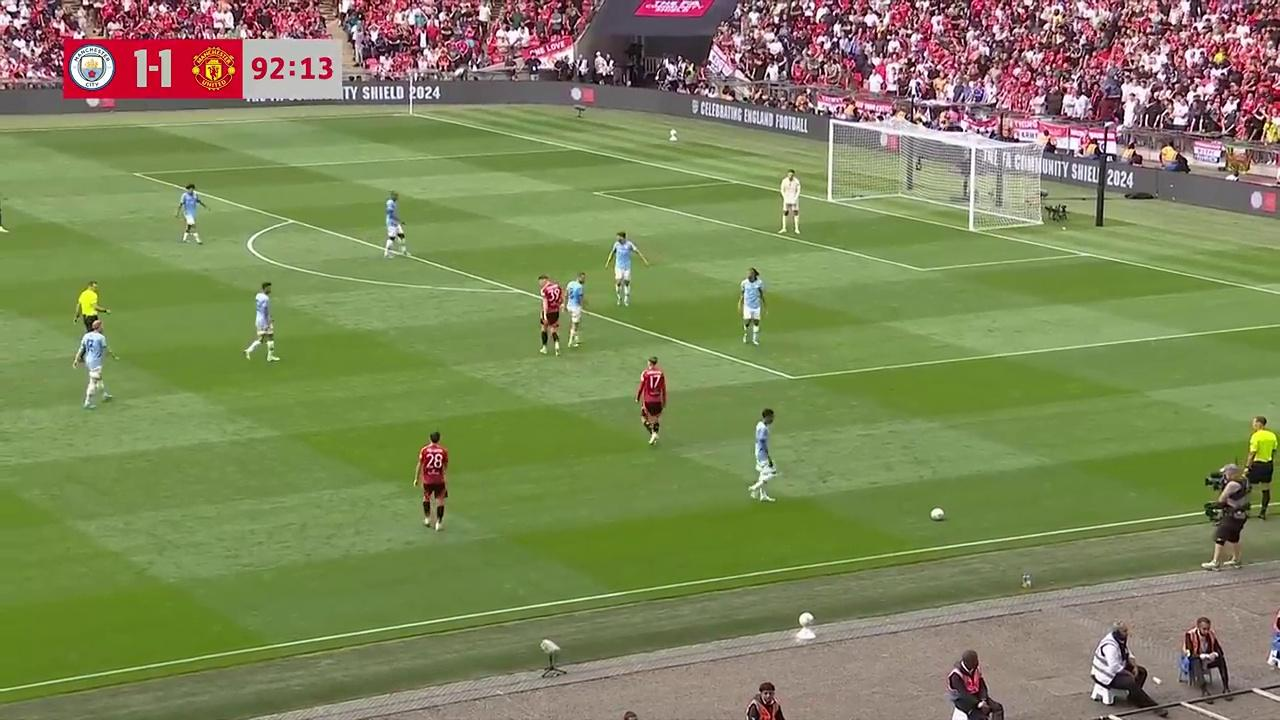ball: (929, 505, 946, 521)
player: (72, 318, 116, 409), (414, 430, 448, 530), (244, 280, 281, 363), (608, 231, 648, 307), (634, 356, 666, 446), (748, 406, 776, 500), (738, 268, 765, 345), (538, 273, 564, 351), (176, 182, 206, 245), (563, 272, 586, 347), (383, 191, 408, 259), (779, 169, 801, 237), (0, 186, 9, 237)
referee: (72, 280, 110, 326), (1246, 415, 1274, 472)
